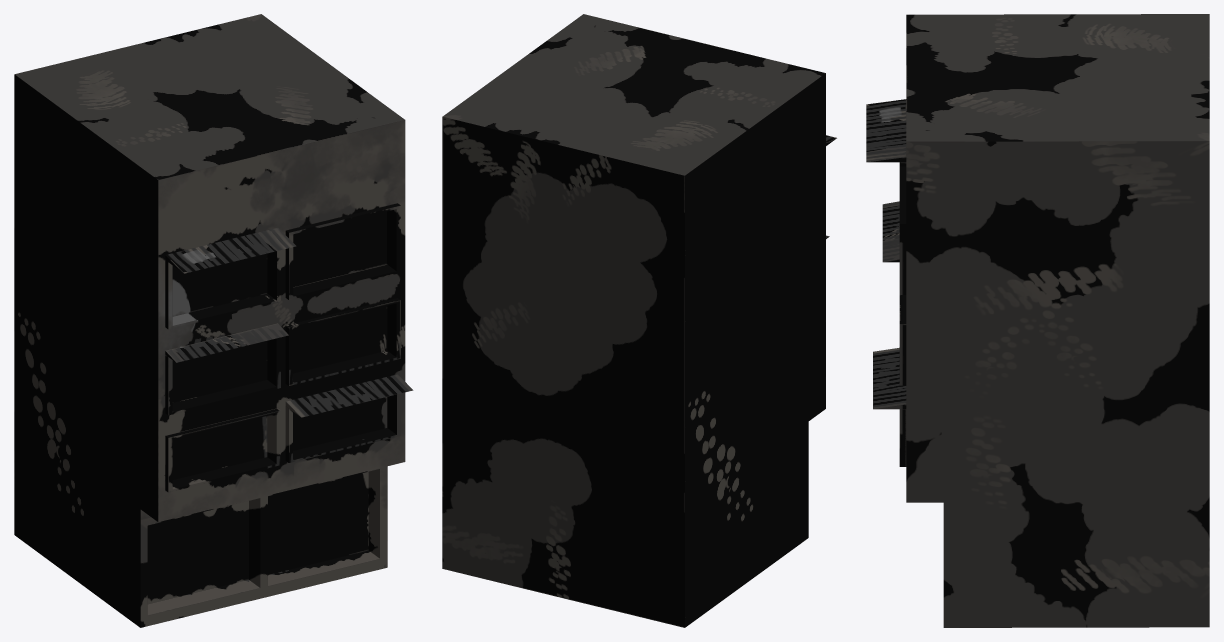
File: middle 1.glb
3 views of the same model, side by side, from view 1: azimuth 30°, elevation 25°; view 2: azimuth 150°, elevation 25°; view 3: azimuth 270°, elevation 25° (orthographic). The views are drawn at different scales.
Visible parts, largest first — view 1: bangunan 1.001; view 2: bangunan 1.001; view 3: bangunan 1.001.
Boxes of the visible parts, <box> form: bangunan 1.001: <box>14,14,413,627</box>; bangunan 1.001: <box>442,14,836,627</box>; bangunan 1.001: <box>866,14,1209,627</box>.
Size of the model in its own units: 8.29 by 14.8 by 9.45.
Materials: 1 (1 with a texture image).
